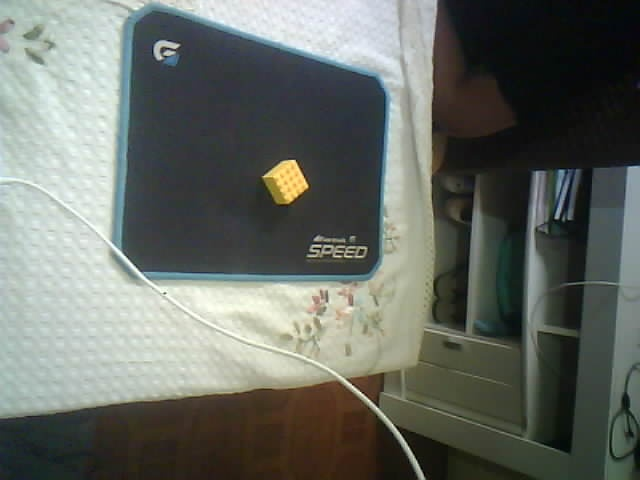lego: (260, 159, 310, 206)
